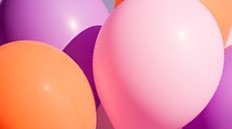Balloon: (92, 1, 225, 129), (1, 40, 95, 129)
